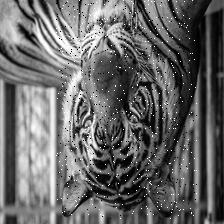tiger: (56, 0, 197, 219)
